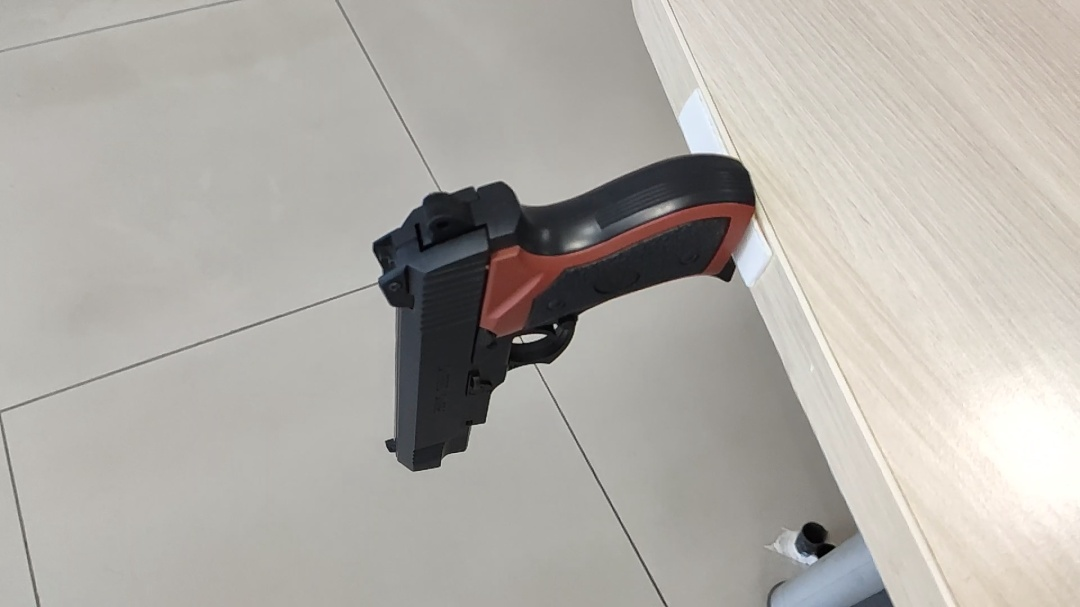gun: (551, 263, 712, 352)
